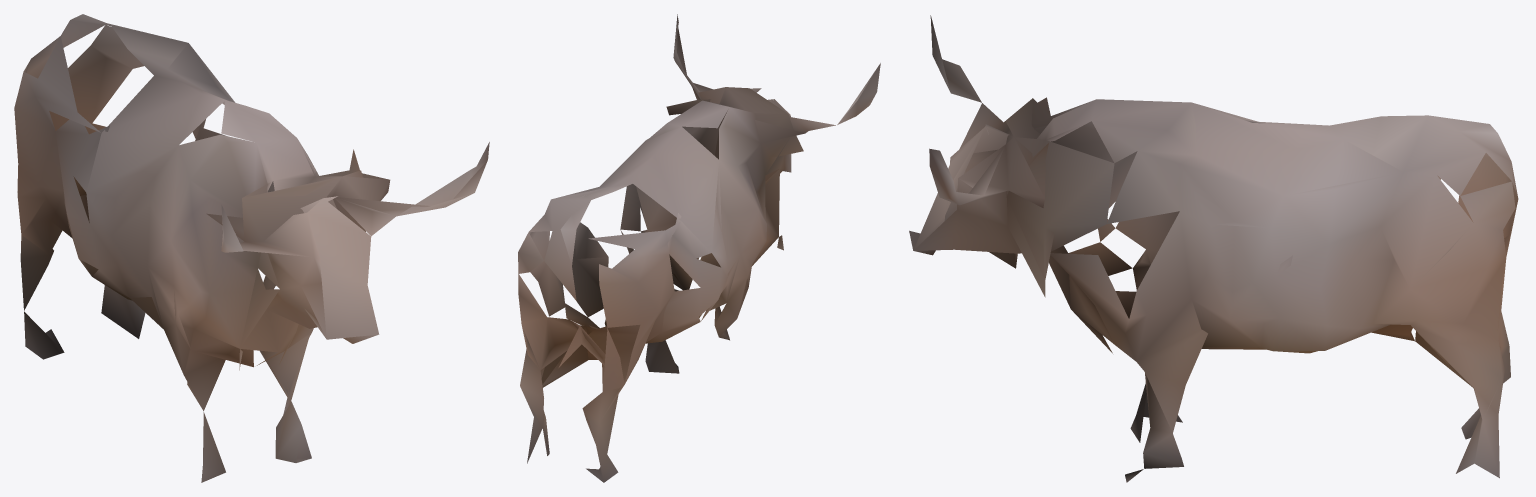
File: animal_ox.glb
3 views of the same model, side by side, from view 1: azimuth 30°, elevation 25°; view 2: azimuth 150°, elevation 25°; view 3: azimuth 270°, elevation 25° (orthographic). The views are drawn at different scales.
Visible parts, largest first — view 1: world; view 2: world; view 3: world.
Boxes of the visible parts, left/top/right/bottom form: world: left=14, top=14, right=489, bottom=482; world: left=518, top=14, right=880, bottom=482; world: left=909, top=15, right=1518, bottom=482.
Size of the model in its own units: 1.21 by 1.6 by 2.36.
